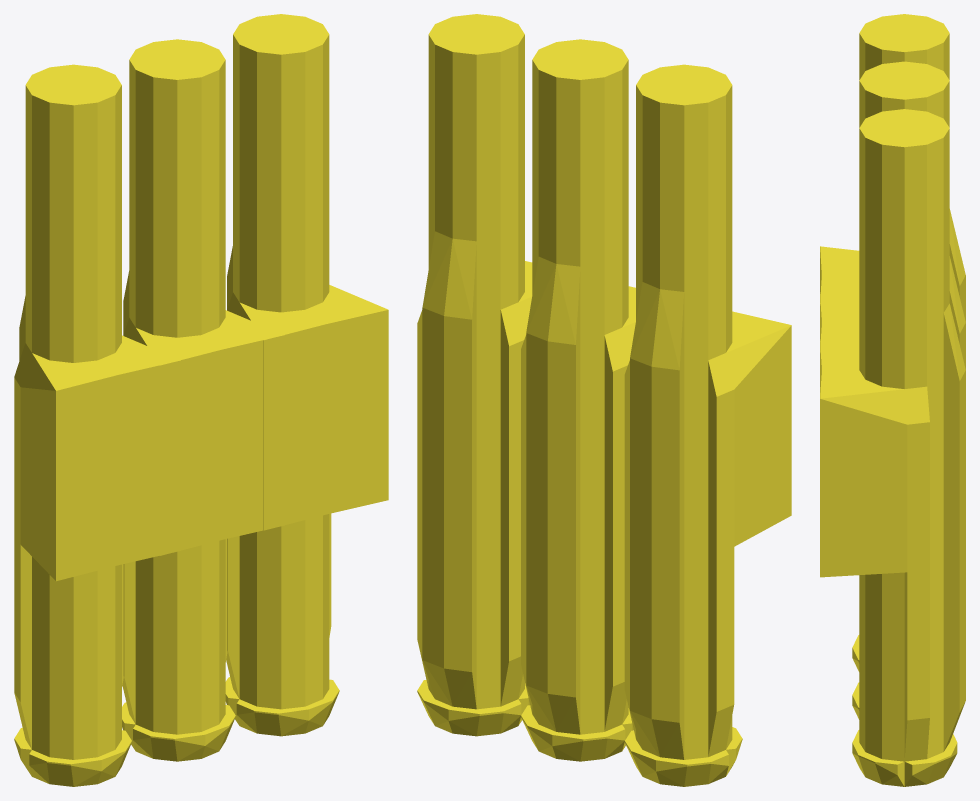
Rendered from WW_Turret_TorpedoLauncher_3Tube.fbx.
3 renders of one model, left to right at view 1: azimuth 30°, elevation 25°; view 2: azimuth 150°, elevation 25°; view 3: azimuth 270°, elevation 25°, orthographic. The views are drawn at different scales.
Parts seen in each view (by area): view 1: WW_Turret_TorpedoLauncher_3Tube.001; view 2: WW_Turret_TorpedoLauncher_3Tube.001; view 3: WW_Turret_TorpedoLauncher_3Tube.001.
Part boxes in pixels (x1,y1,x2,y2): WW_Turret_TorpedoLauncher_3Tube.001: (14, 14, 388, 786); WW_Turret_TorpedoLauncher_3Tube.001: (417, 14, 791, 786); WW_Turret_TorpedoLauncher_3Tube.001: (820, 14, 965, 786).
Bounding box in the file's own units: 3.19 × 6.25 × 1.29.
